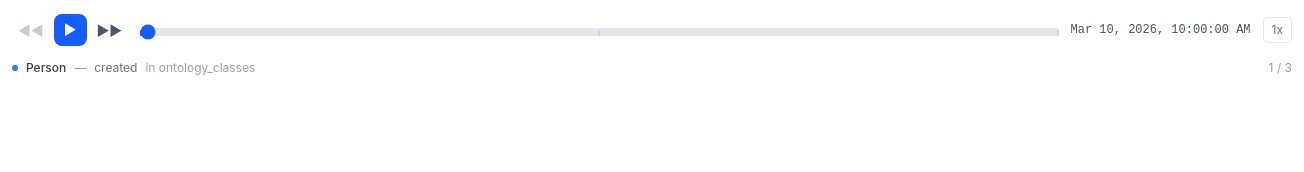
Test case: VCRTimeline › cycles speed on speed button click
Click the button with test id "timeline-speed" at (1277, 30), box top-left (1262, 17), bottom-right (1292, 43)
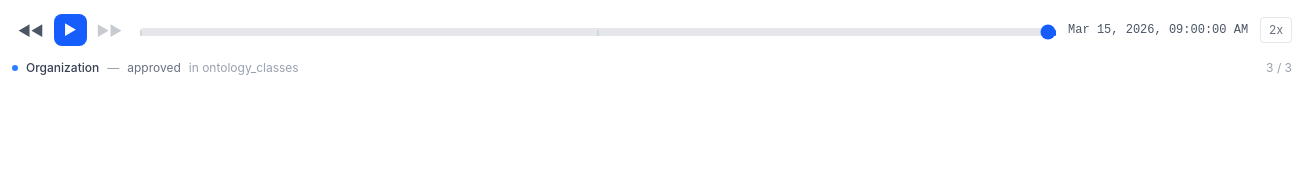
Expected: the button with test id "timeline-speed" reads "2x", top-left (1260, 17), bottom-right (1292, 43)
